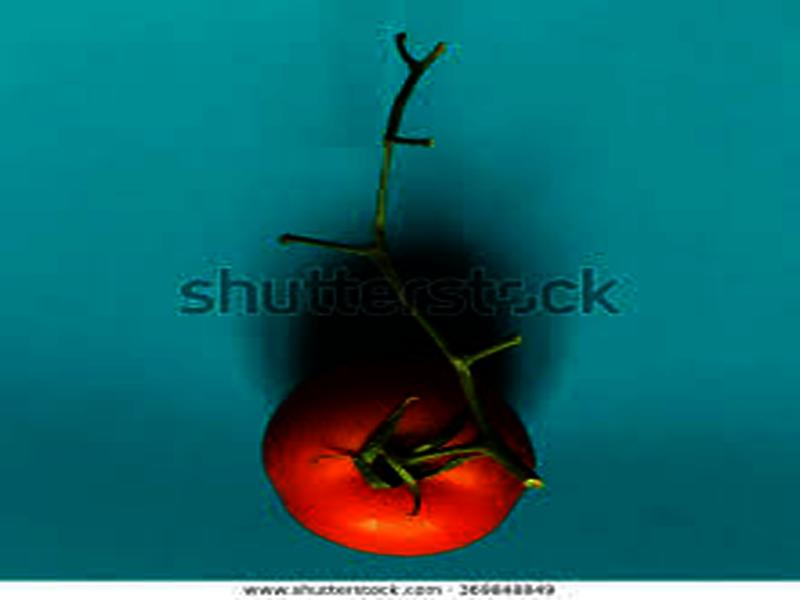Tomato: (264, 361, 536, 553)
